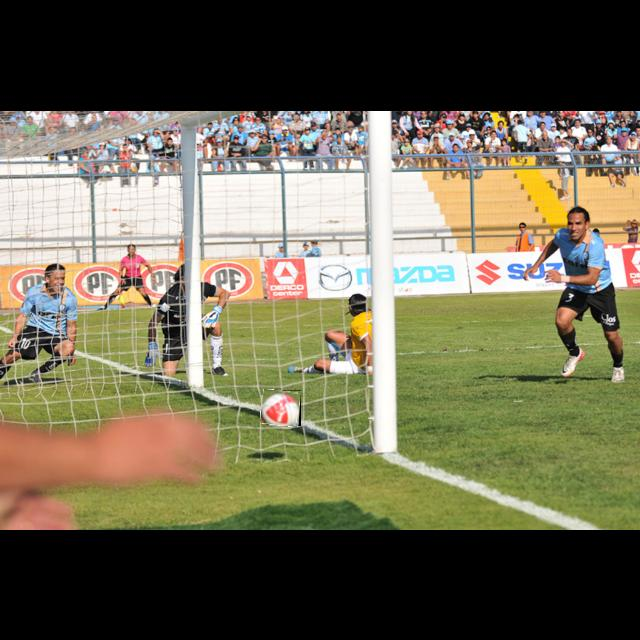Football: (261, 390, 301, 426)
